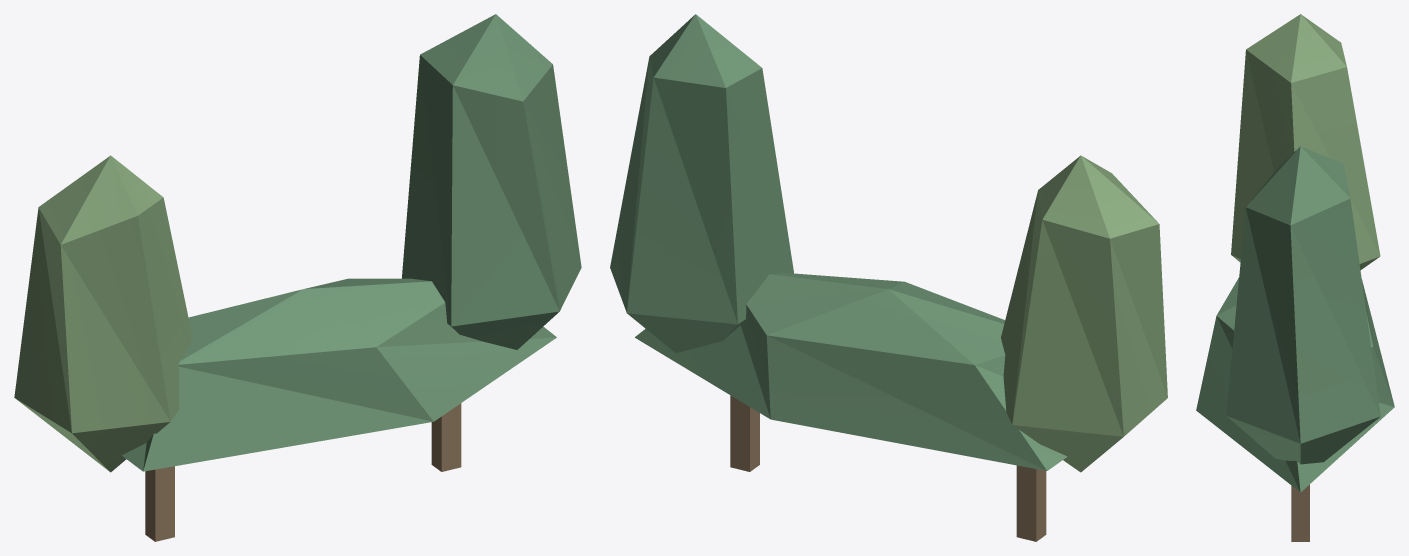
3 renders of one model, left to right at view 1: azimuth 30°, elevation 25°; view 2: azimuth 150°, elevation 25°; view 3: azimuth 270°, elevation 25°, orthographic. The views are drawn at different scales.
Visible parts, largest first — view 1: hedge_dense; view 2: hedge_dense; view 3: hedge_dense.
Part boxes in pixels (x1,y1,x2,y2): hedge_dense: (14,14,581,541); hedge_dense: (610,14,1167,541); hedge_dense: (1196,14,1394,541).
Size of the model in its own units: 2.19 by 1.7 by 0.7412.
